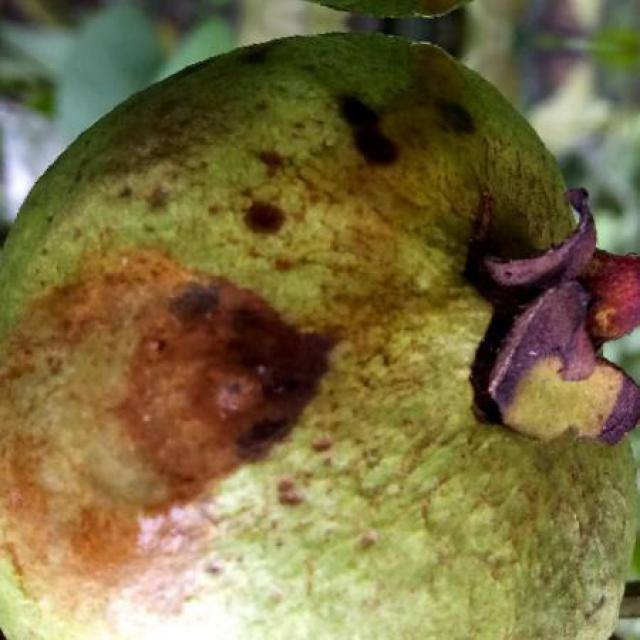Styler and Root: (0, 34, 640, 640)
